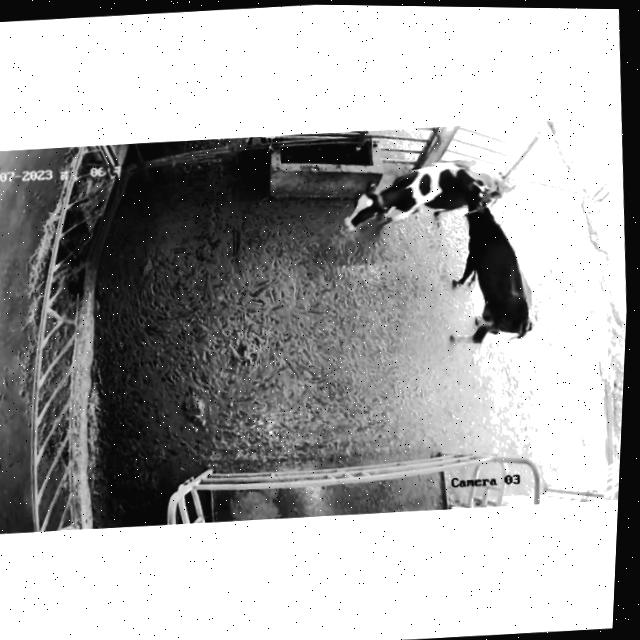propping: (440, 156, 509, 227)
